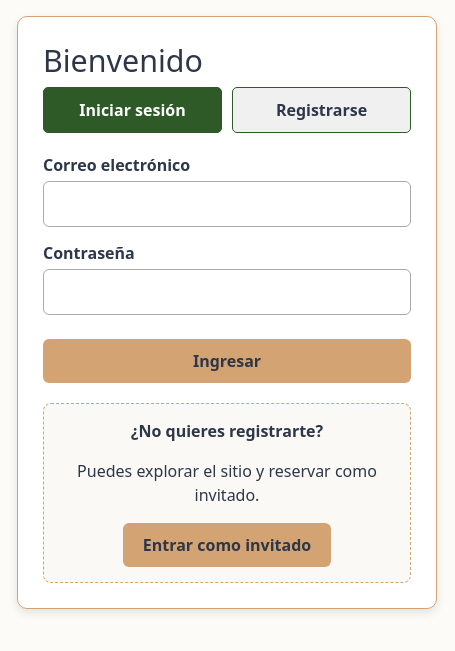
Pruebas de navegador del inicio de sesión › PF-04: con un correo inválido muestra error y no crea sesión
In the field labelled "Correo electrónico": (227, 204) [43,180,411,226], type "correo-malo"
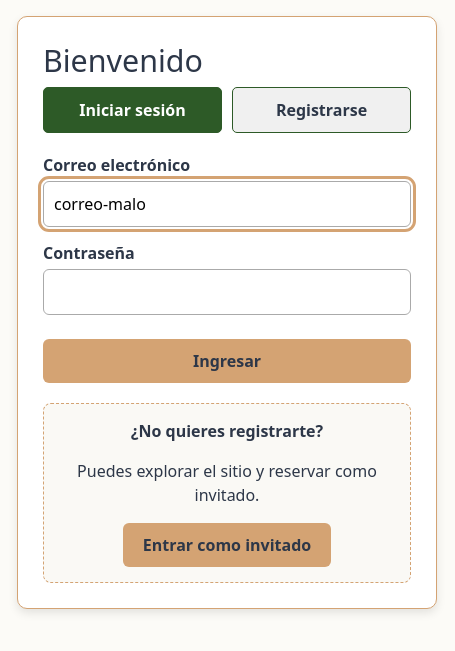
In the password field labelled "Contraseña": (227, 292) [43,268,411,314], type "1234"
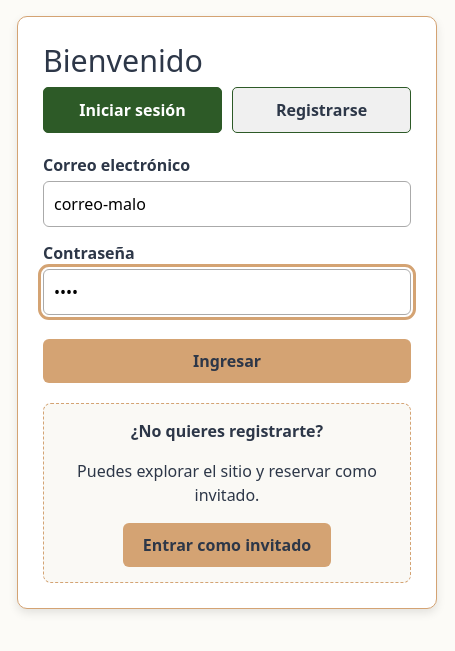
Click the button "Ingresar": (227, 360) [43,338,411,382]
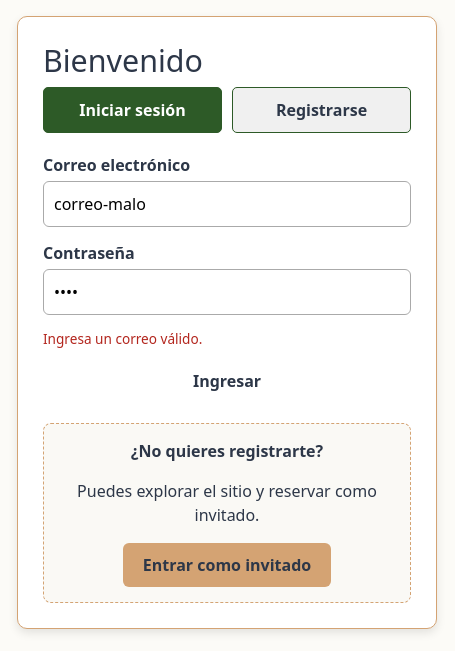
Now the message shows "correo válido", box [43,328,202,348]
